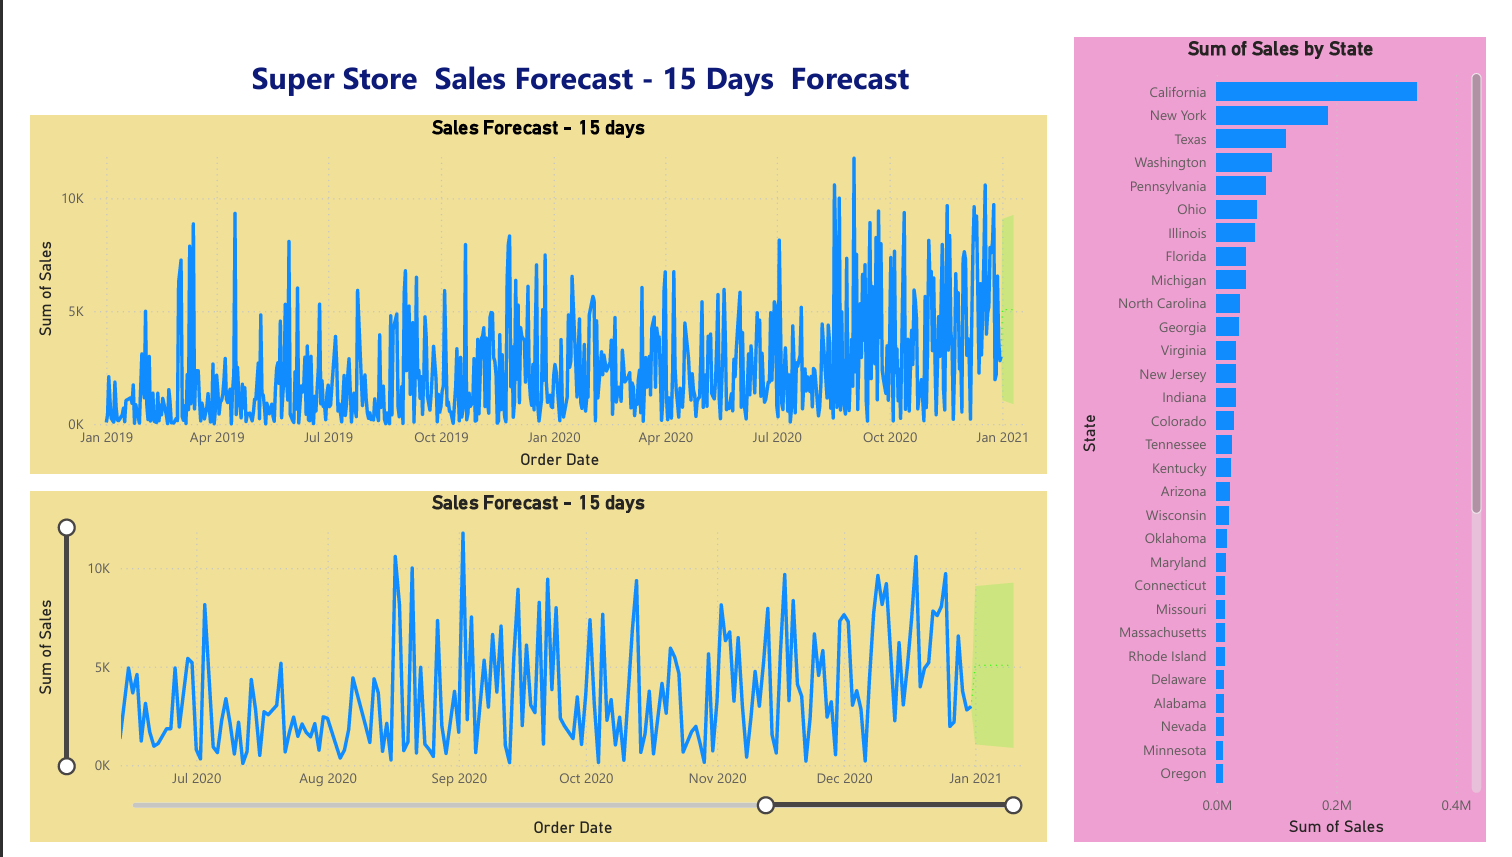

What the dashboard file says about the page in this screenshot:
{"tool":"powerbi","page":{"name":"Page 2","canvas":[1280,720],"ordinal":1},"visuals":[{"type":"lineChart","title":"Sales Forecast - 15 days","fields":{"Y":["Sum(SuperStore_Sales_Dataset (1).Sales)"],"Category":["SuperStore_Sales_Dataset (1).Order Date"]},"box":[0,411.7,893.3,308.3],"z":0},{"type":"lineChart","title":"Sales Forecast - 15 days","fields":{"Y":["Sum(SuperStore_Sales_Dataset (1).Sales)"],"Category":["SuperStore_Sales_Dataset (1).Order Date"]},"box":[0,81.7,893.3,315],"z":1000},{"type":"clusteredBarChart","fields":{"Category":["SuperStore_Sales_Dataset (1).State"],"Y":["Sum(SuperStore_Sales_Dataset (1).Sales)"]},"box":[918.3,13.3,361.7,706.7],"z":2000},{"type":"textbox","box":[136.7,25,693.3,56.7],"z":3000}]}

Visuals, with their boxes in screenshot pixels (x1, y1, x2, y2), scaled from the page's 1280x720 canvas onto the 1512x857 screenshot:
"Sales Forecast - 15 days" lineChart: bbox=[0, 490, 1055, 856]
"Sales Forecast - 15 days" lineChart: bbox=[0, 97, 1055, 472]
clusteredBarChart - SuperStore_Sales_Dataset (1).State x Sum(SuperStore_Sales_Dataset (1).Sales): bbox=[1085, 16, 1511, 856]
textbox: bbox=[161, 30, 980, 97]
